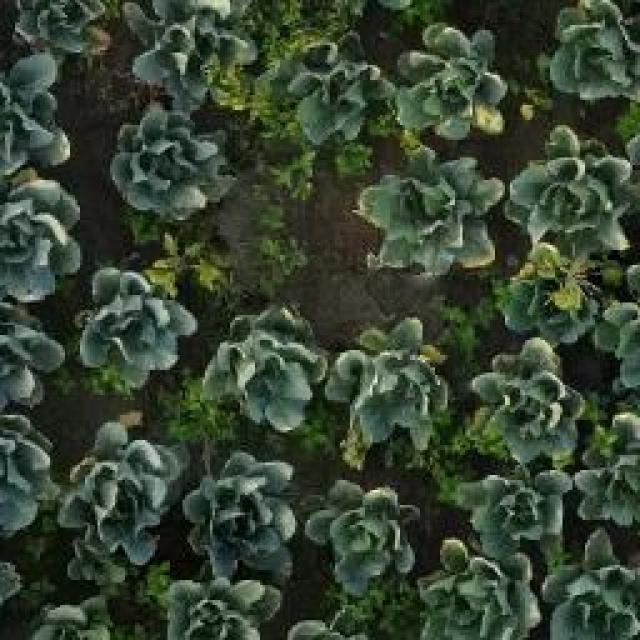cabbage: (55, 418, 183, 571), (357, 148, 497, 275), (330, 318, 453, 456), (203, 306, 332, 436), (79, 263, 201, 392), (507, 128, 633, 252), (468, 338, 588, 468), (181, 454, 304, 578), (110, 105, 228, 223), (396, 20, 509, 143), (125, 0, 257, 100), (419, 537, 542, 640), (305, 480, 421, 586), (462, 454, 572, 560), (1, 169, 84, 305), (282, 34, 386, 140), (501, 238, 602, 342), (549, 532, 640, 640), (547, 0, 640, 101), (567, 408, 640, 530), (158, 572, 288, 640), (3, 0, 118, 63)
